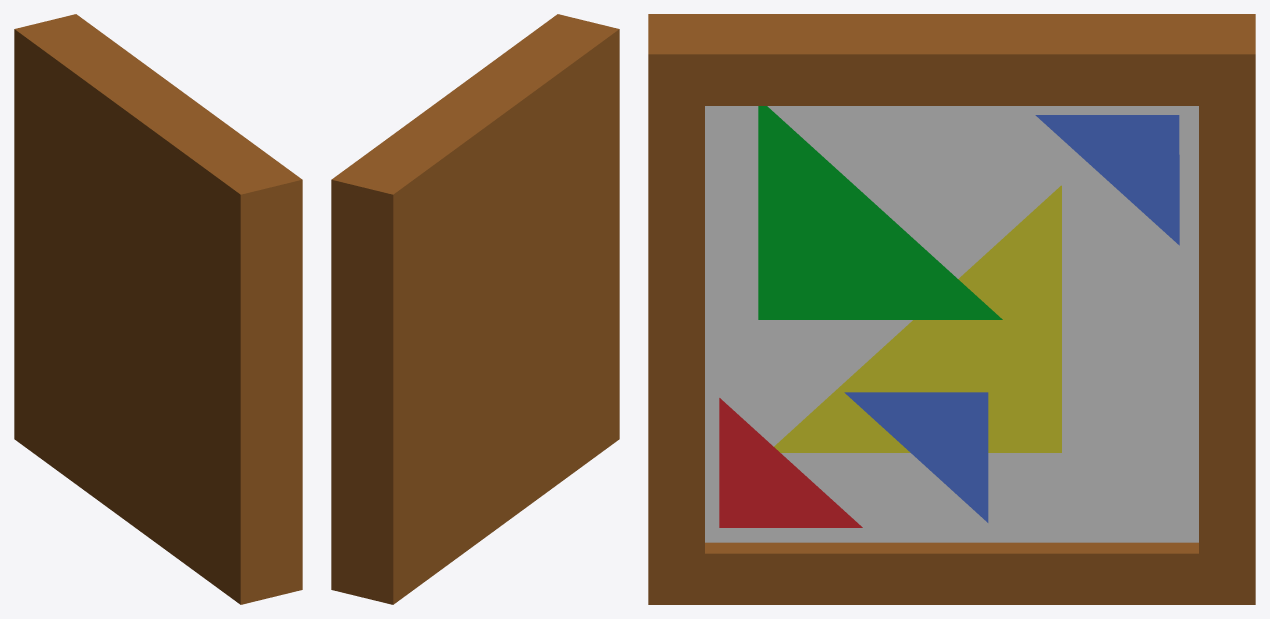
File: paintt.fbx
3 views of the same model, side by side, from view 1: azimuth 30°, elevation 25°; view 2: azimuth 150°, elevation 25°; view 3: azimuth 270°, elevation 25° (orthographic). The views are drawn at different scales.
Parts seen in each view (by area): view 1: Cube; view 2: Cube; view 3: Cube.
Boxes of the visible parts, x1,y1,x2,y2 form: Cube: (14, 14, 302, 604); Cube: (331, 14, 619, 604); Cube: (648, 14, 1255, 604).
Size of the model in its own units: 31.51 by 200 by 200.
